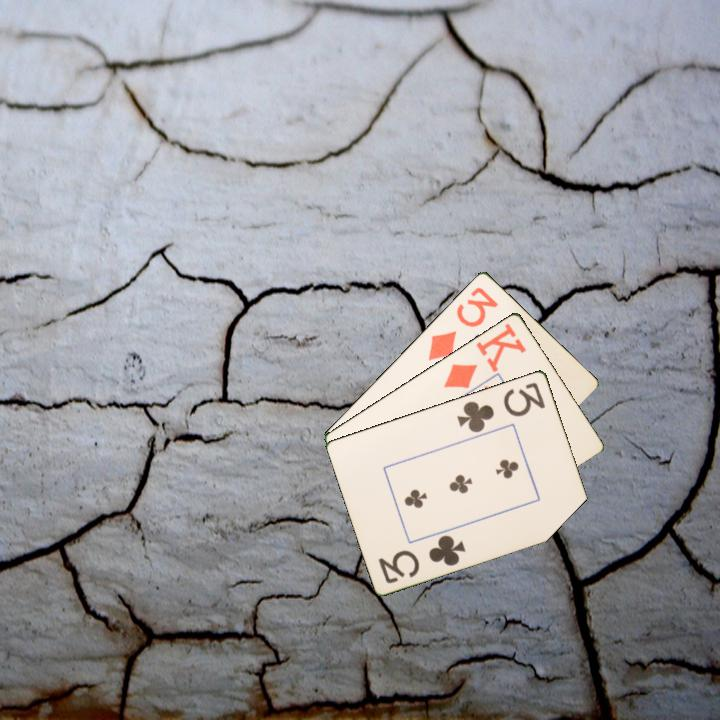3c: (454, 378, 548, 435), (375, 531, 469, 586)
3d: (424, 283, 501, 363)
Kd: (440, 319, 529, 391)
